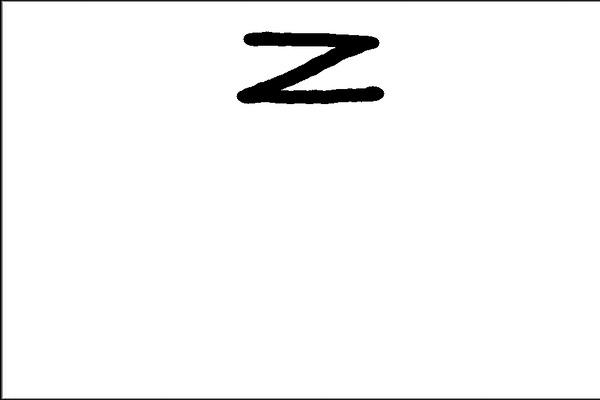Z: (230, 17, 393, 113)
